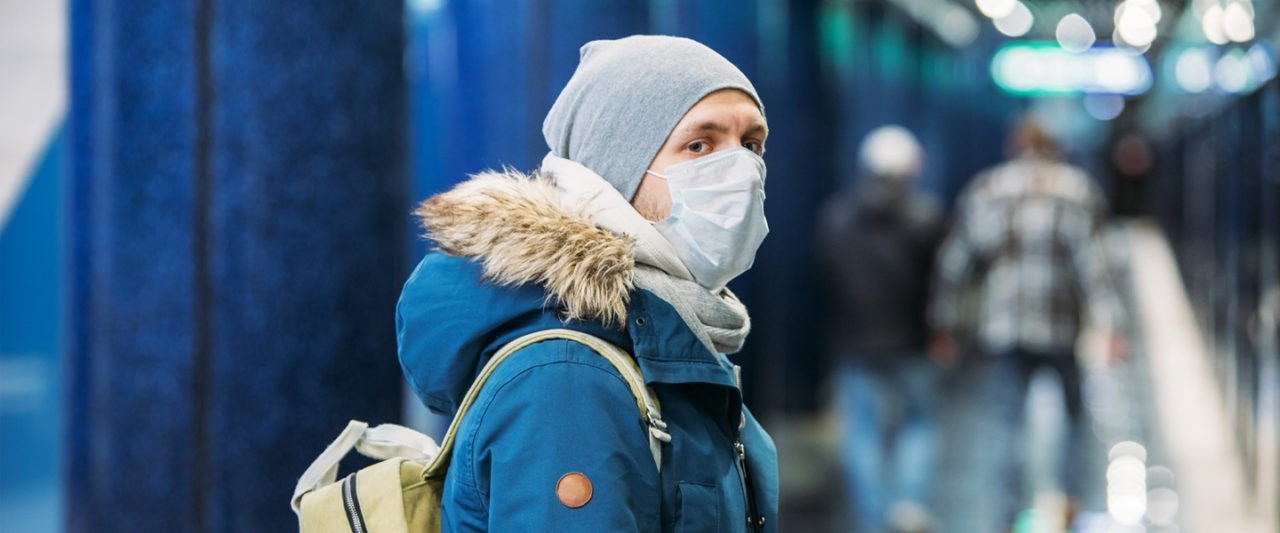face_with_mask: (555, 27, 775, 298)
